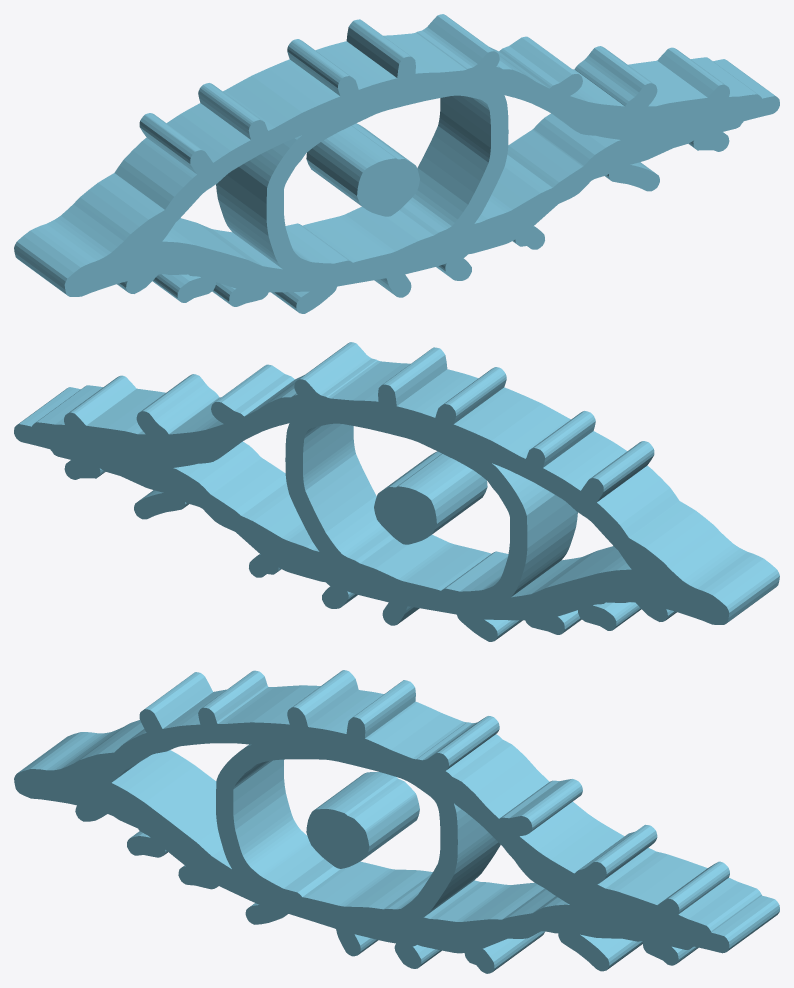
The model's file is diji.obj.
3 views of the same model, one above another, from view 1: azimuth 30°, elevation 25°; view 2: azimuth 150°, elevation 25°; view 3: azimuth 330°, elevation 25° (orthographic).
Visible parts, largest first — view 1: obj_0; view 2: obj_0; view 3: obj_0.
Part boxes in pixels (x1,y1,x2,y2): obj_0: [14, 14, 779, 313]; obj_0: [14, 342, 779, 641]; obj_0: [14, 670, 779, 973].
Size of the model in its own units: 81.52 by 26.1 by 10.
